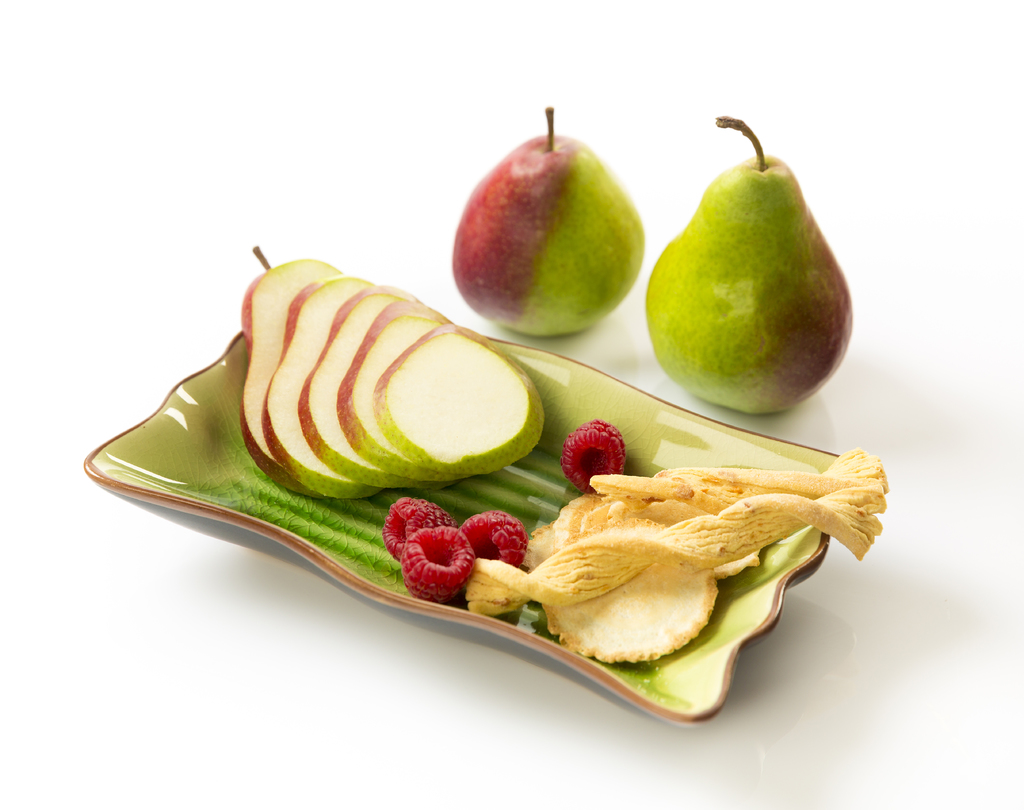Apple: (448, 103, 645, 330)
